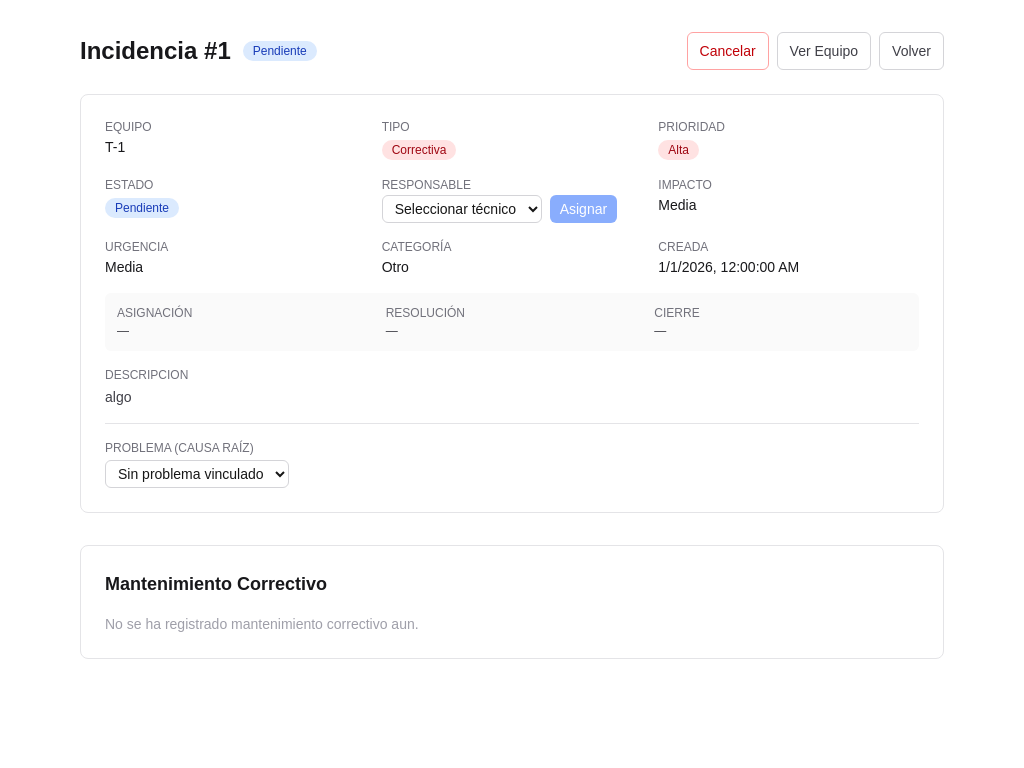
Test: IncidenciaDetailPage › surfaces an error message when cancelar fails
This screenshot has width=1024, height=768.
Check: the heading "Incidencia #1" is shown, box [80, 35, 231, 67]
Click the button "Cancelar" at (728, 51), box [686, 32, 768, 70]
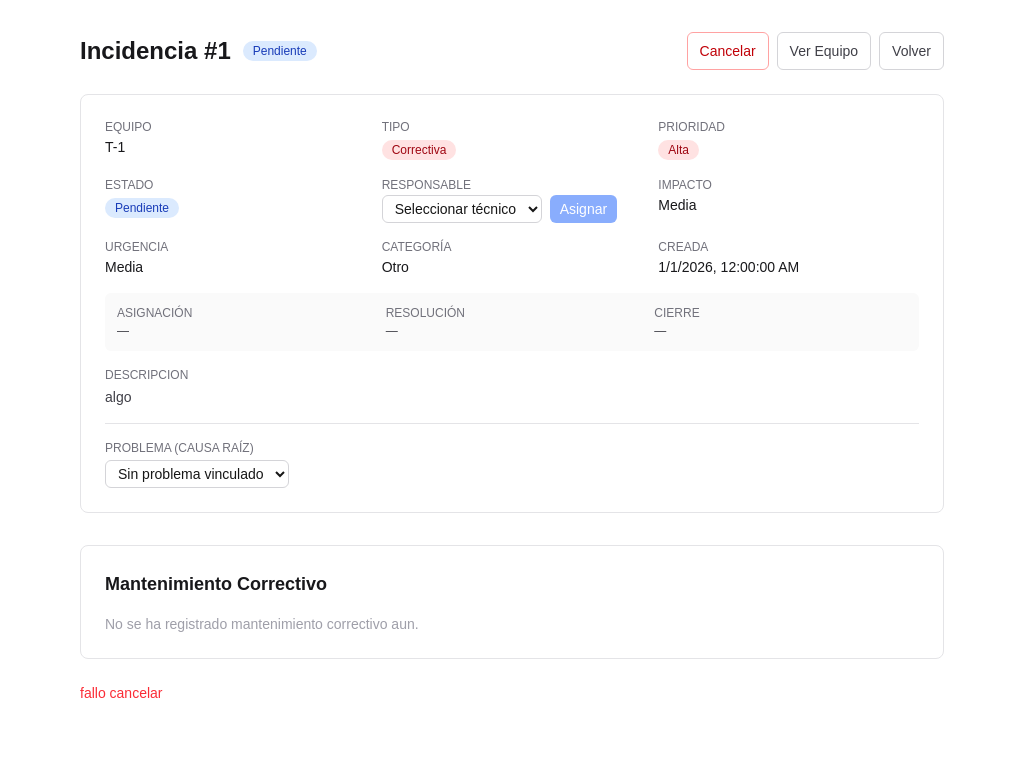
Check: the text "fallo cancelar" is shown, box [80, 683, 162, 703]
